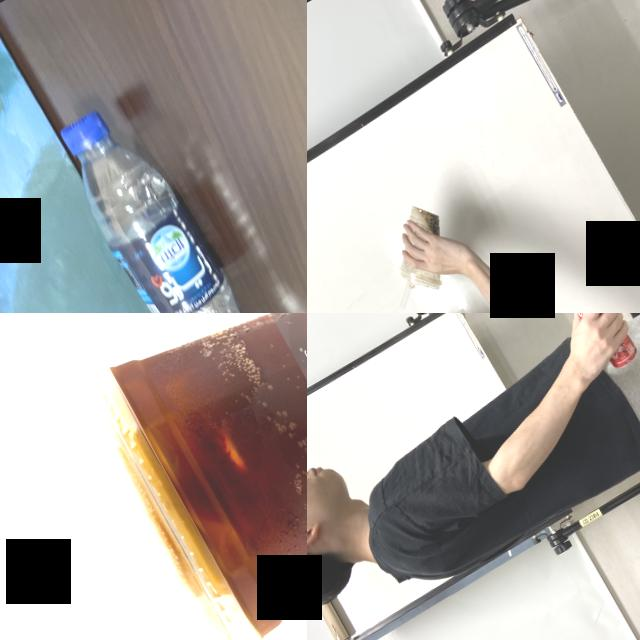bottle: (27, 59, 307, 313)
can: (558, 313, 640, 374)
cup: (0, 313, 307, 640), (372, 195, 471, 302)
